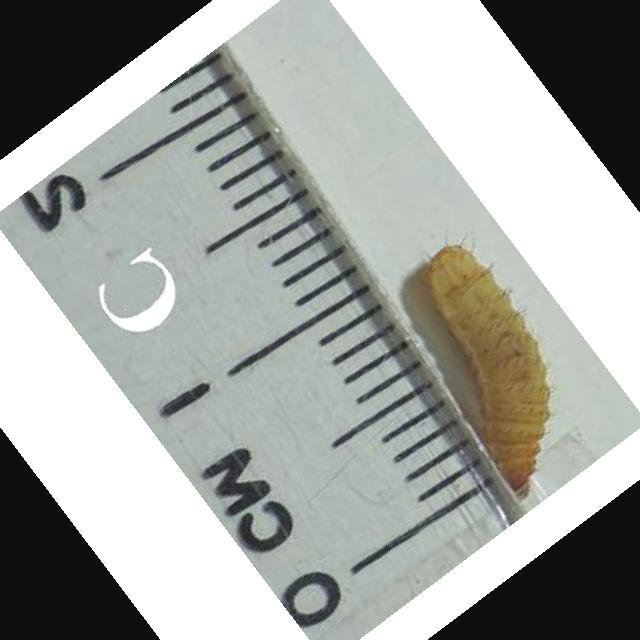Maggot: (419, 239, 547, 495)
